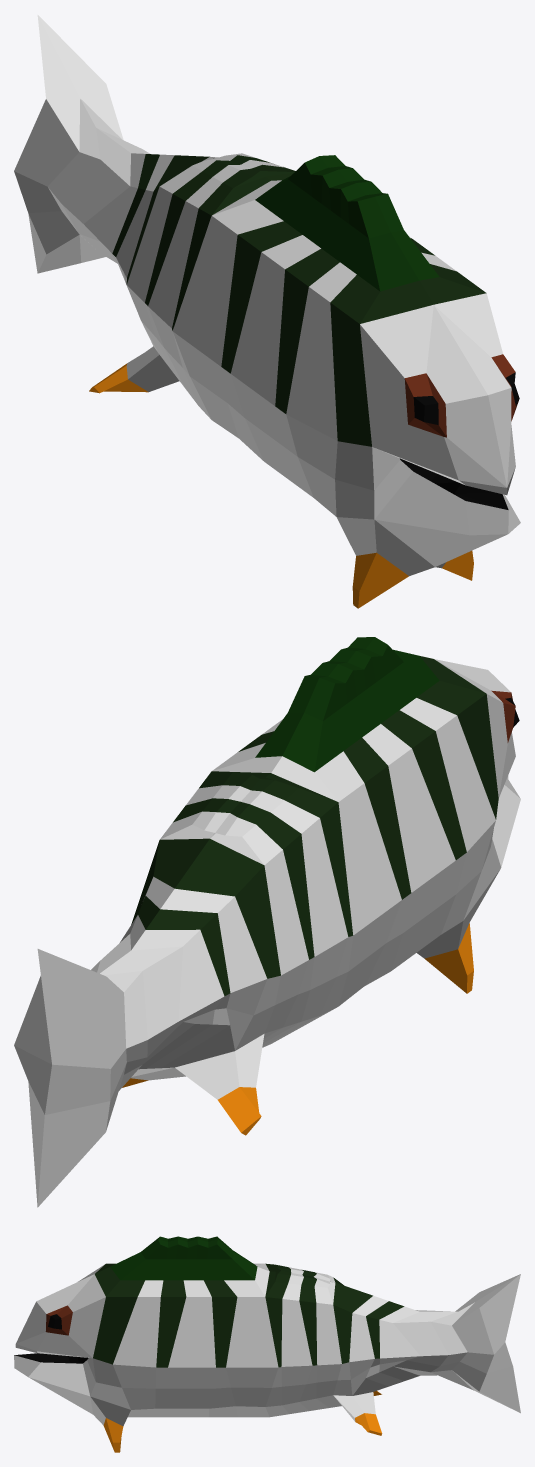
Rendered from fish.fbx.
The picture shows the model from 3 angles, top to bottom: view 1: azimuth 30°, elevation 25°; view 2: azimuth 150°, elevation 25°; view 3: azimuth 270°, elevation 25°; orthographic projection. The views are drawn at different scales.
Visible parts, largest first — view 1: Cube; view 2: Cube; view 3: Cube.
Part boxes in pixels (x1,y1,x2,y2): Cube: (14,15,520,608); Cube: (14,637,520,1207); Cube: (14,1236,520,1452).
Size of the model in its own units: 160 by 313 by 724.
